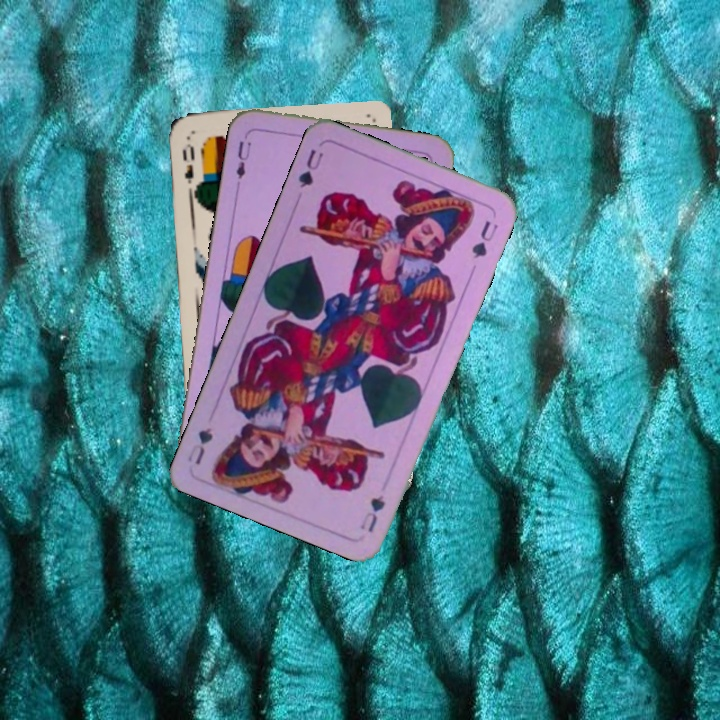EO: (178, 139, 203, 193)
EU: (232, 129, 253, 188)
GU: (294, 145, 327, 190), (356, 490, 388, 535)
